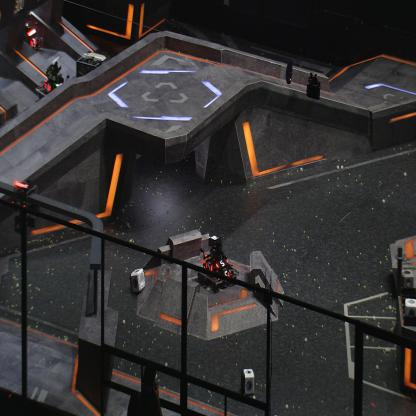car: (196, 234, 239, 294), (74, 50, 110, 102), (35, 61, 72, 111), (13, 13, 43, 55)
